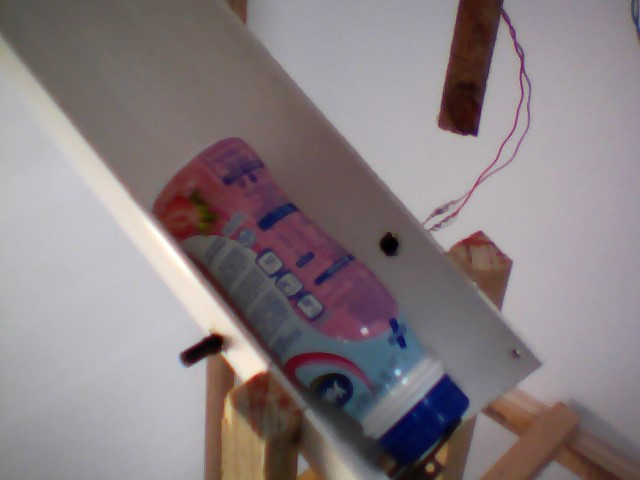plastico: (139, 127, 475, 467)
